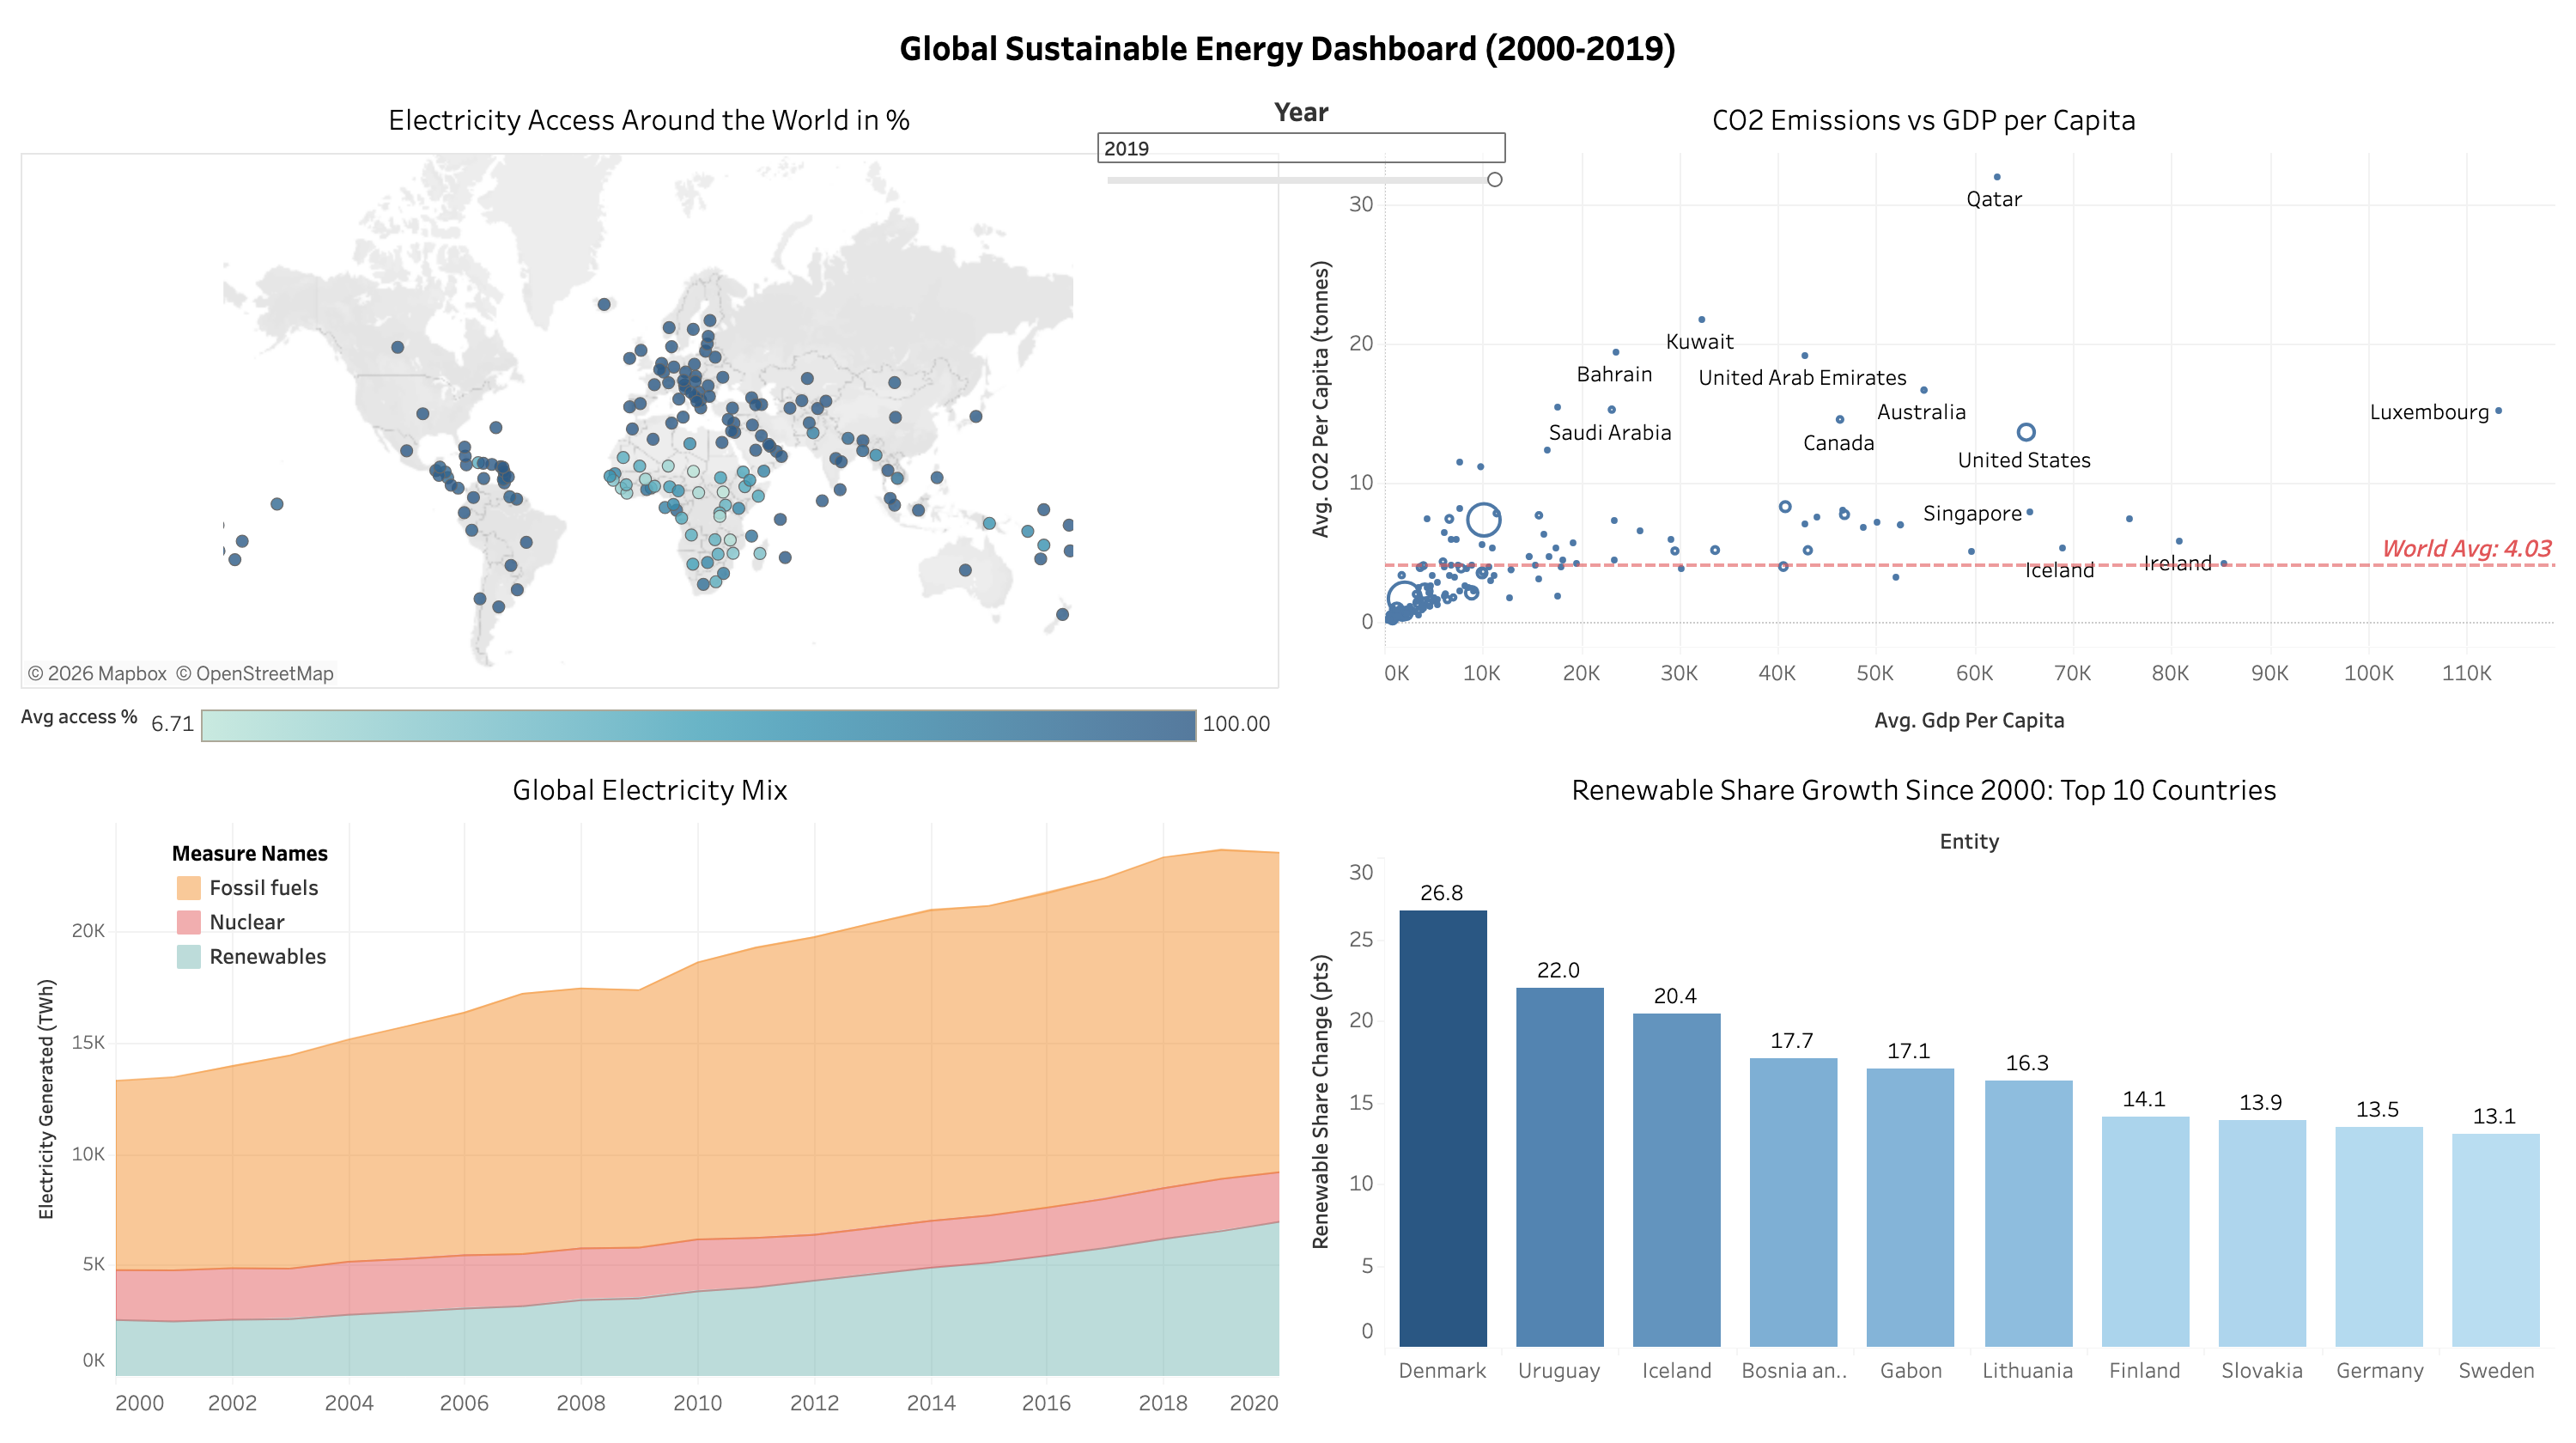

Layout of this report page (visuals, bound fields, positions):
{"tool":"tableau","page":{"name":"Dashboard 1","canvas":[1000,1000],"units":"permille","ordinal":0},"visuals":[{"type":"text","box":[6.5,11.1,987.1,45.7]},{"type":"worksheet","title":"Map - Electricity %","mark":"Multipolygon","rows":["Latitude"],"cols":["Longitude"],"box":[6.5,56.8,493.1,414.7]},{"type":"worksheet","title":"CO2 vs GDP","mark":"Automatic","rows":["Calculation_0401153978617864"],"cols":["gdp_per_capita"],"box":[499.5,56.8,494,459.2]},{"type":"parameter","param":"[Parameters].[Parameter 3534351845335044]","box":[425.2,63.8,159.9,110.9]},{"type":"legend","title":"Map - Electricity %","param":"[federated.120a1zz0snkvfd117s2a01153ben].[avg:Access to electricity (% of popula","box":[6.5,471.5,493.1,44.4]},{"type":"worksheet","title":"Electricity mix","mark":"Area","cols":["Year"],"box":[6.5,516,493.1,472.9]},{"type":"worksheet","title":"Renew share growth","mark":"Bar","rows":["Calculation_0401153685499908"],"cols":["Entity"],"box":[499.5,516,494,472.9]},{"type":"legend","title":"Electricity mix","param":"[federated.120a1zz0snkvfd117s2a01153ben].[:Measure Names]","box":[59.9,596,162.3,110.8]}]}

Visuals, with their boxes on the dashboard's canvas, which has no fixed pixel size, in thousandths of its width and height (x1, y1, x2, y2). These are canvas units, not pixel positions in the 2576x1443 screenshot, which may show the page scaled, cropped or inside an application window:
text: <region>6, 11, 994, 57</region>
"Map - Electricity %" worksheet (Multipolygon marks): <region>6, 57, 500, 472</region>
"CO2 vs GDP" worksheet: <region>500, 57, 994, 516</region>
parameter: <region>425, 64, 585, 175</region>
"Map - Electricity %" legend: <region>6, 472, 500, 516</region>
"Electricity mix" worksheet (Area marks): <region>6, 516, 500, 989</region>
"Renew share growth" worksheet (Bar marks): <region>500, 516, 994, 989</region>
"Electricity mix" legend: <region>60, 596, 222, 707</region>
